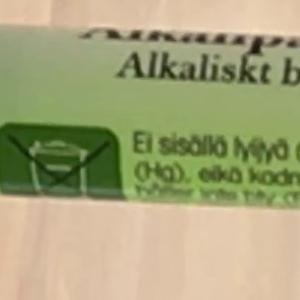keyword: (106, 41, 174, 92)
